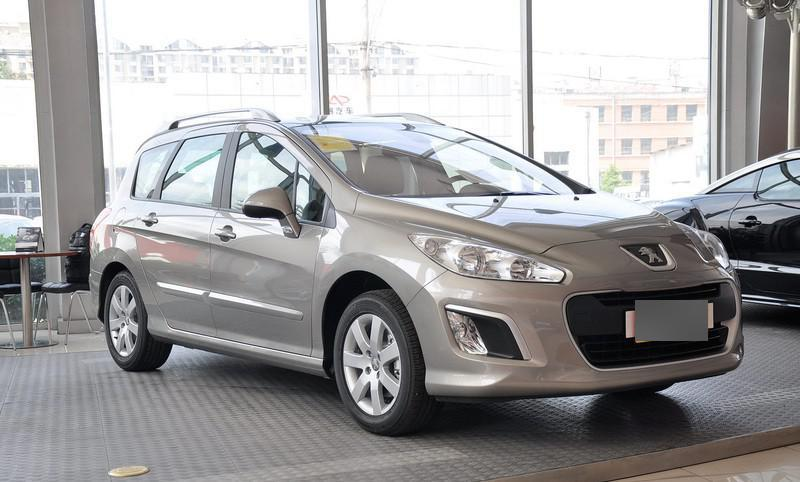Wagon: (87, 105, 745, 436)
